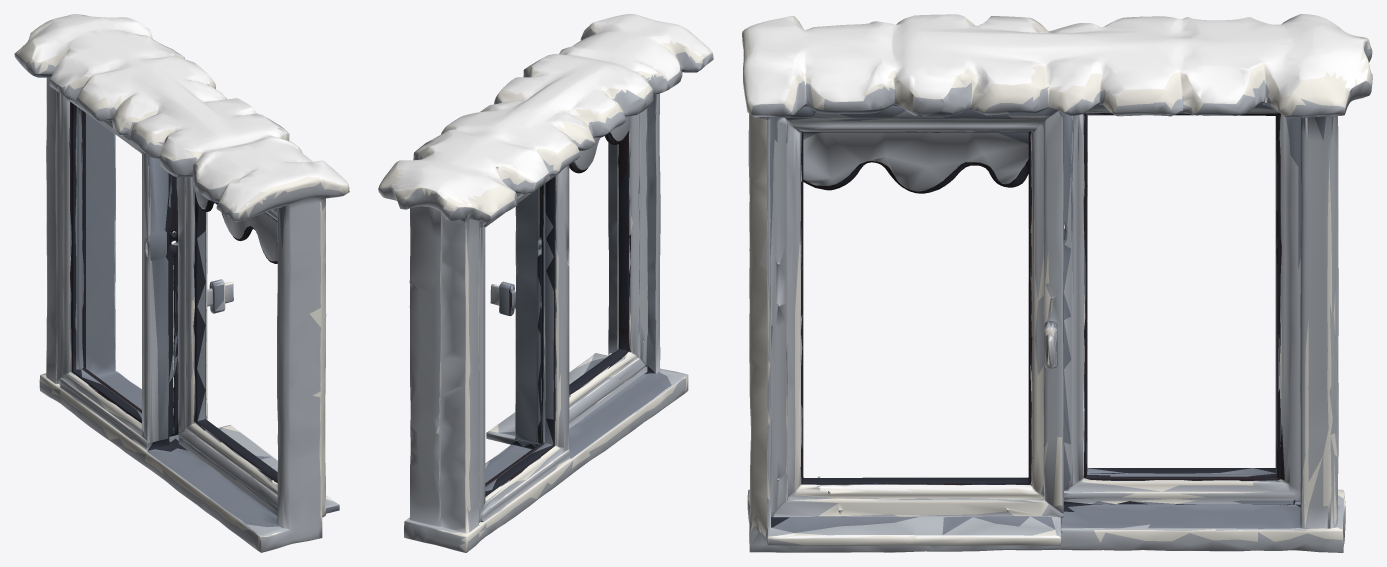
Rendered from SM_shelf_rack_metal.glb.
The picture shows the model from 3 angles, left to right: view 1: azimuth 30°, elevation 25°; view 2: azimuth 150°, elevation 25°; view 3: azimuth 270°, elevation 25°; orthographic projection. The views are drawn at different scales.
Visible parts, largest first — view 1: SM_shelf_rack_metal; view 2: SM_shelf_rack_metal; view 3: SM_shelf_rack_metal.
Part boxes in pixels (bbox=[...]): SM_shelf_rack_metal: bbox=[14, 14, 349, 552]; SM_shelf_rack_metal: bbox=[378, 14, 713, 552]; SM_shelf_rack_metal: bbox=[742, 14, 1372, 552].
Bounding box in the file's own units: 0.4581 × 1.3 × 1.5.
1 material, 1 textured.
